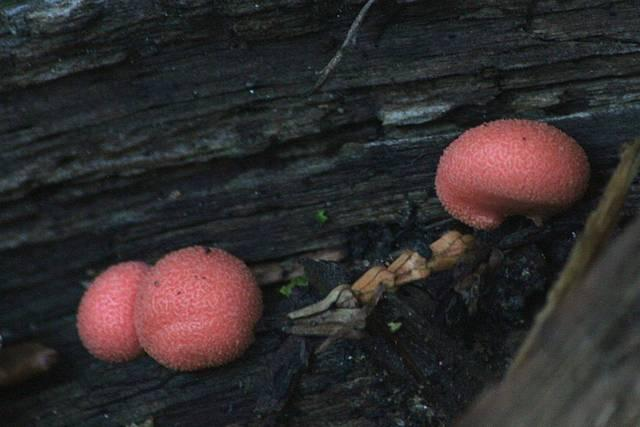Non-edible Mushroom: (433, 116, 591, 232), (132, 243, 264, 372), (75, 259, 151, 363)
